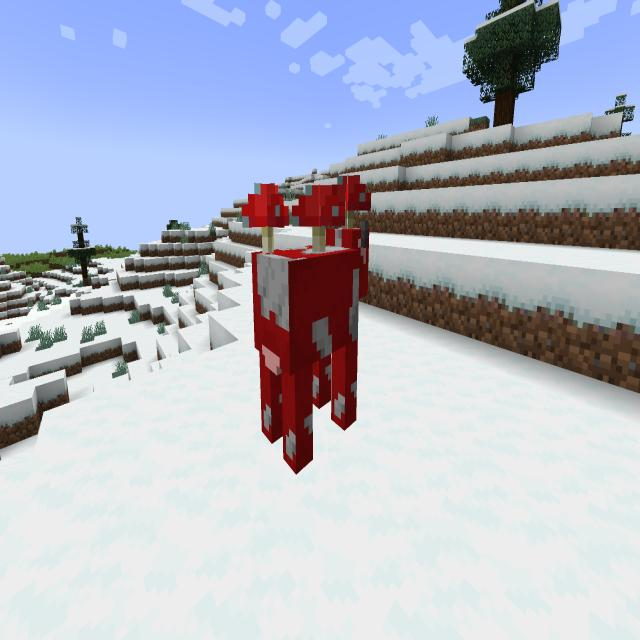Mooshroom: (235, 160, 383, 494)
